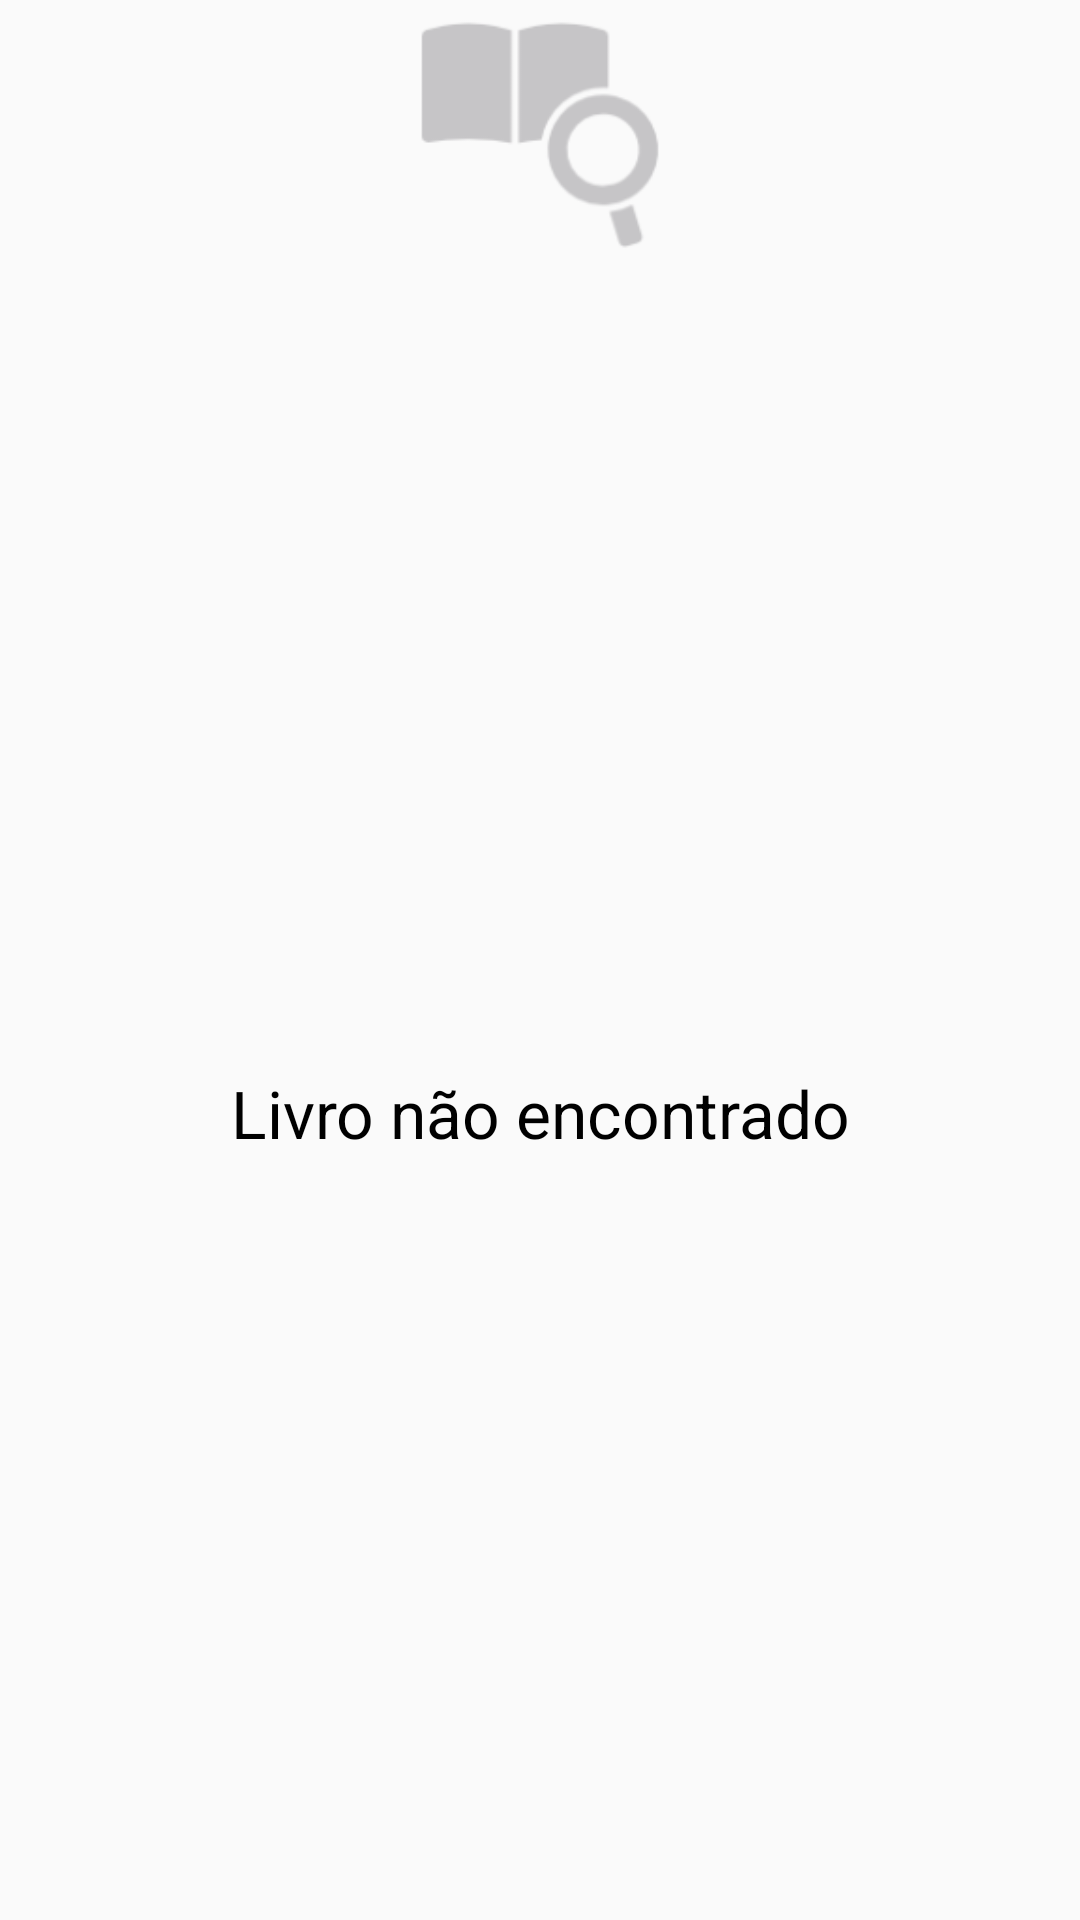

Locate icon controls on the screen. Image size 1080px x 1920px, boxes as bbox=[x1, y1, x2, y2].
booknotfound: bbox=[422, 23, 658, 246]
